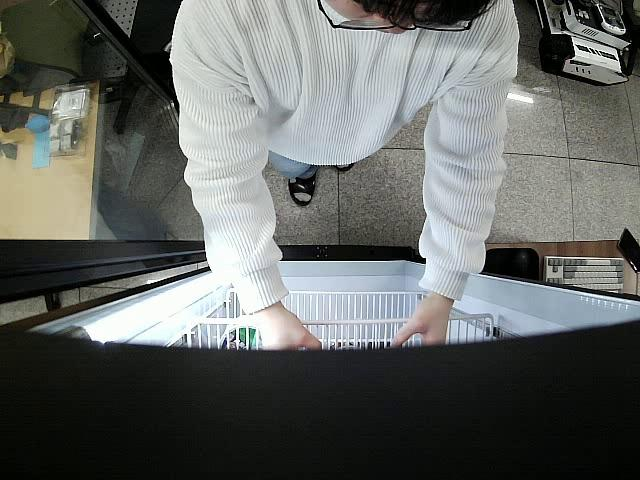00_hand: (391, 302, 449, 347)
